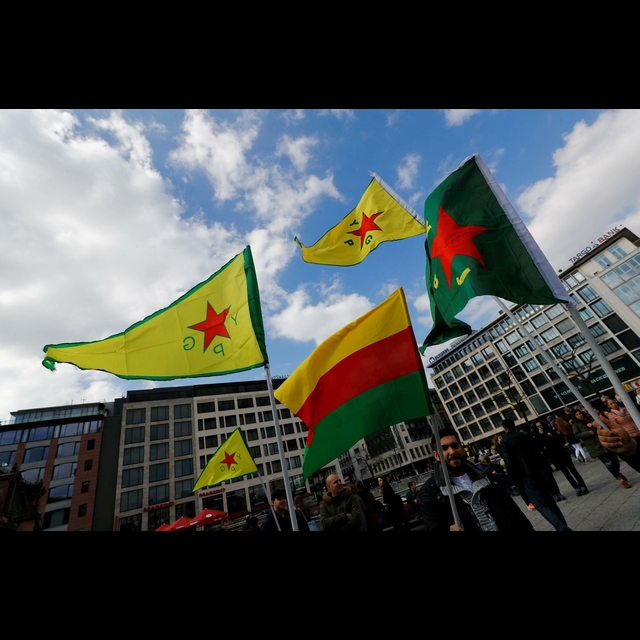YPG: (179, 300, 243, 359), (341, 208, 389, 249), (211, 448, 243, 475)
YPJ: (413, 208, 488, 293)
